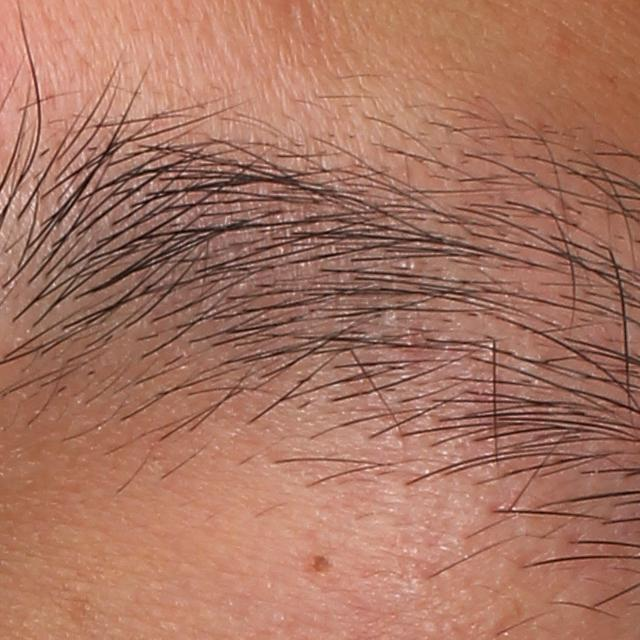nevus: (307, 552, 339, 577)
